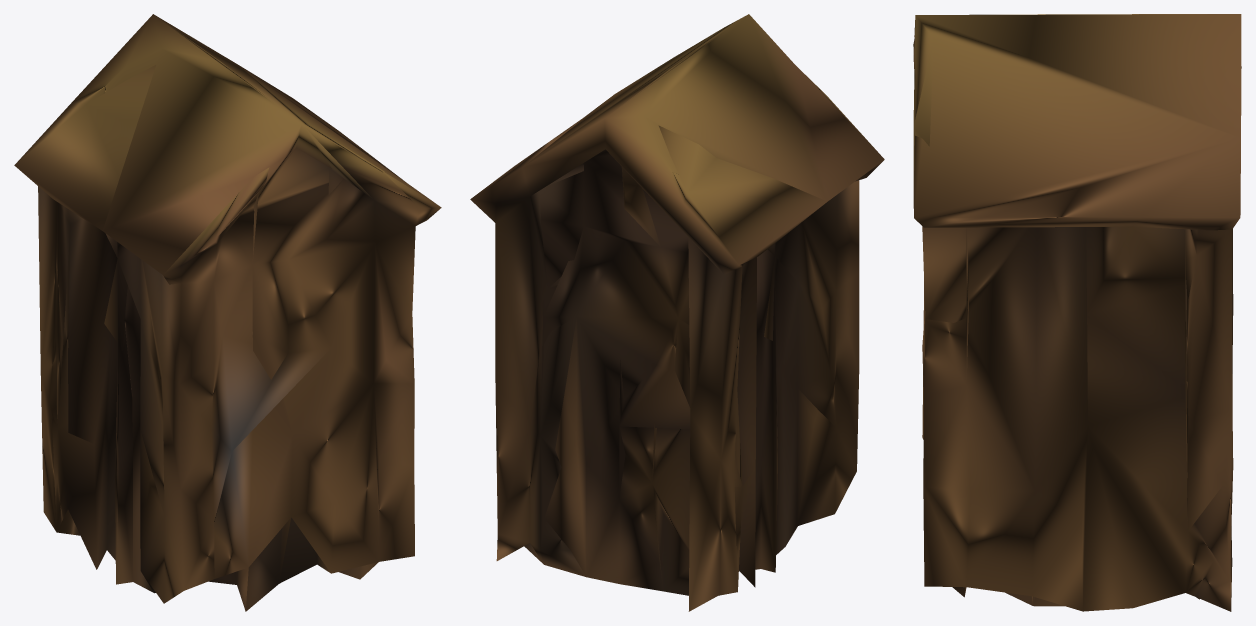
The model's file is gen3d-outhouse-lod1.glb.
3 renders of one model, left to right at view 1: azimuth 30°, elevation 25°; view 2: azimuth 150°, elevation 25°; view 3: azimuth 270°, elevation 25°, orthographic. The views are drawn at different scales.
Parts seen in each view (by area): view 1: part_0; view 2: part_0; view 3: part_0.
Part boxes in pixels (bbox=[...]): part_0: bbox=[14, 14, 441, 611]; part_0: bbox=[470, 14, 884, 611]; part_0: bbox=[913, 14, 1241, 611].
Size of the model in its own units: 0.591 by 0.9989 by 0.5472.
